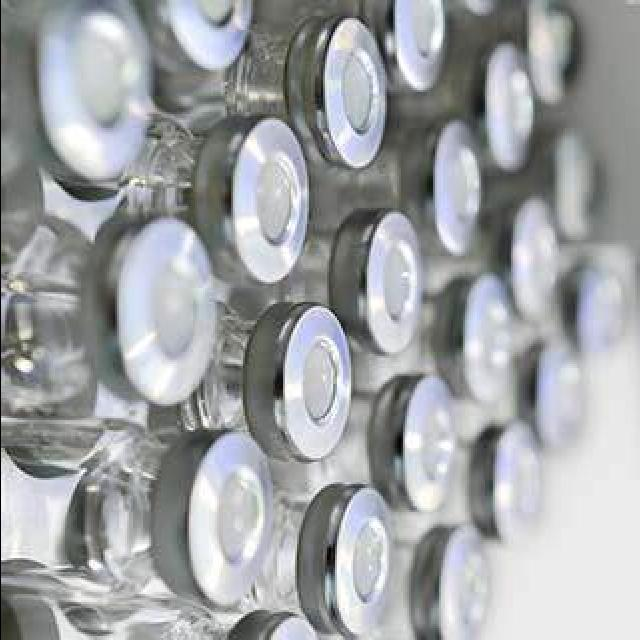vial: (57, 0, 159, 193), (105, 228, 207, 406), (184, 429, 268, 584), (232, 113, 304, 290), (273, 307, 347, 463), (326, 488, 392, 640), (389, 377, 464, 505), (344, 220, 418, 345), (324, 15, 379, 178), (422, 122, 476, 274), (426, 531, 492, 640), (159, 0, 262, 63), (486, 35, 530, 180), (494, 422, 538, 562), (462, 273, 512, 395), (385, 0, 445, 95), (554, 135, 598, 247), (536, 348, 578, 450), (514, 207, 548, 325), (572, 273, 614, 355), (543, 3, 575, 94), (456, 0, 532, 25), (234, 615, 304, 640)
